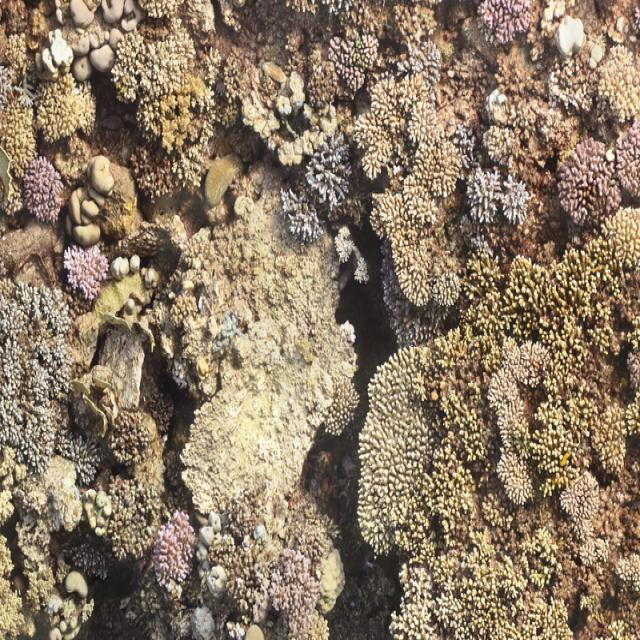Bleached Coral: (273, 130, 367, 296), (456, 164, 546, 230), (549, 7, 596, 83), (35, 25, 77, 91), (480, 76, 511, 122), (331, 314, 360, 362)
Healthy Coral: (358, 323, 640, 634), (374, 87, 462, 302), (150, 514, 210, 592), (263, 554, 322, 622), (60, 240, 120, 301), (18, 153, 69, 224)
